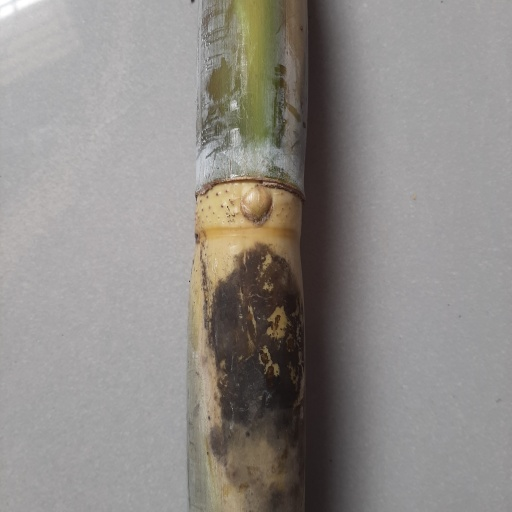Bud: (239, 184, 275, 225)
